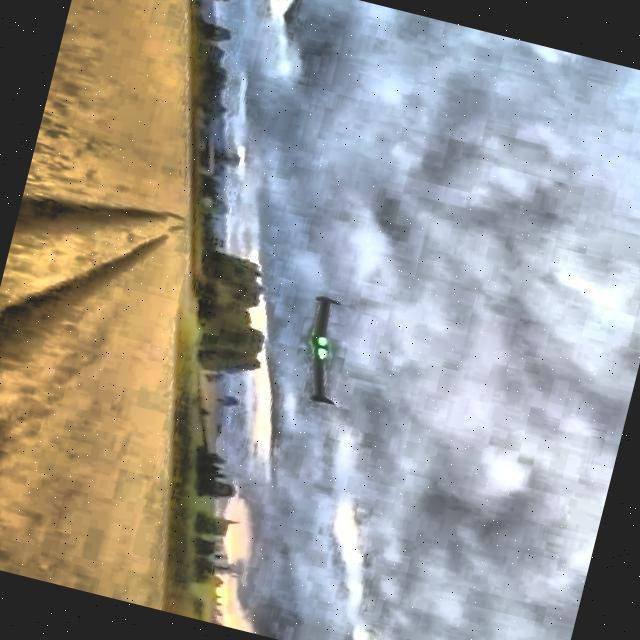iha: (321, 321, 325, 379)
